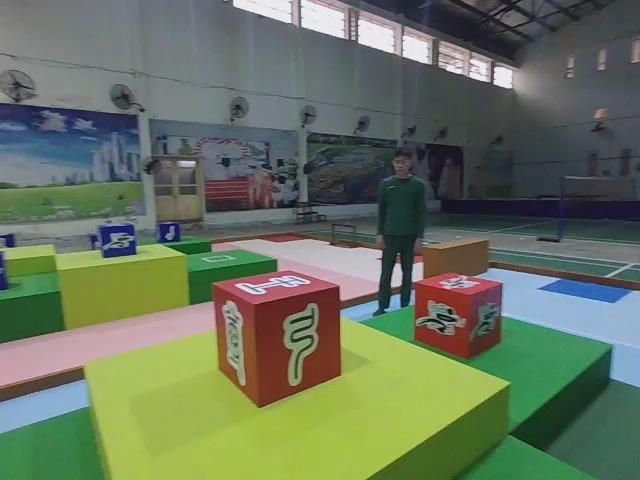R1: (412, 270, 506, 362)
R2 Fake: (209, 266, 344, 410)
